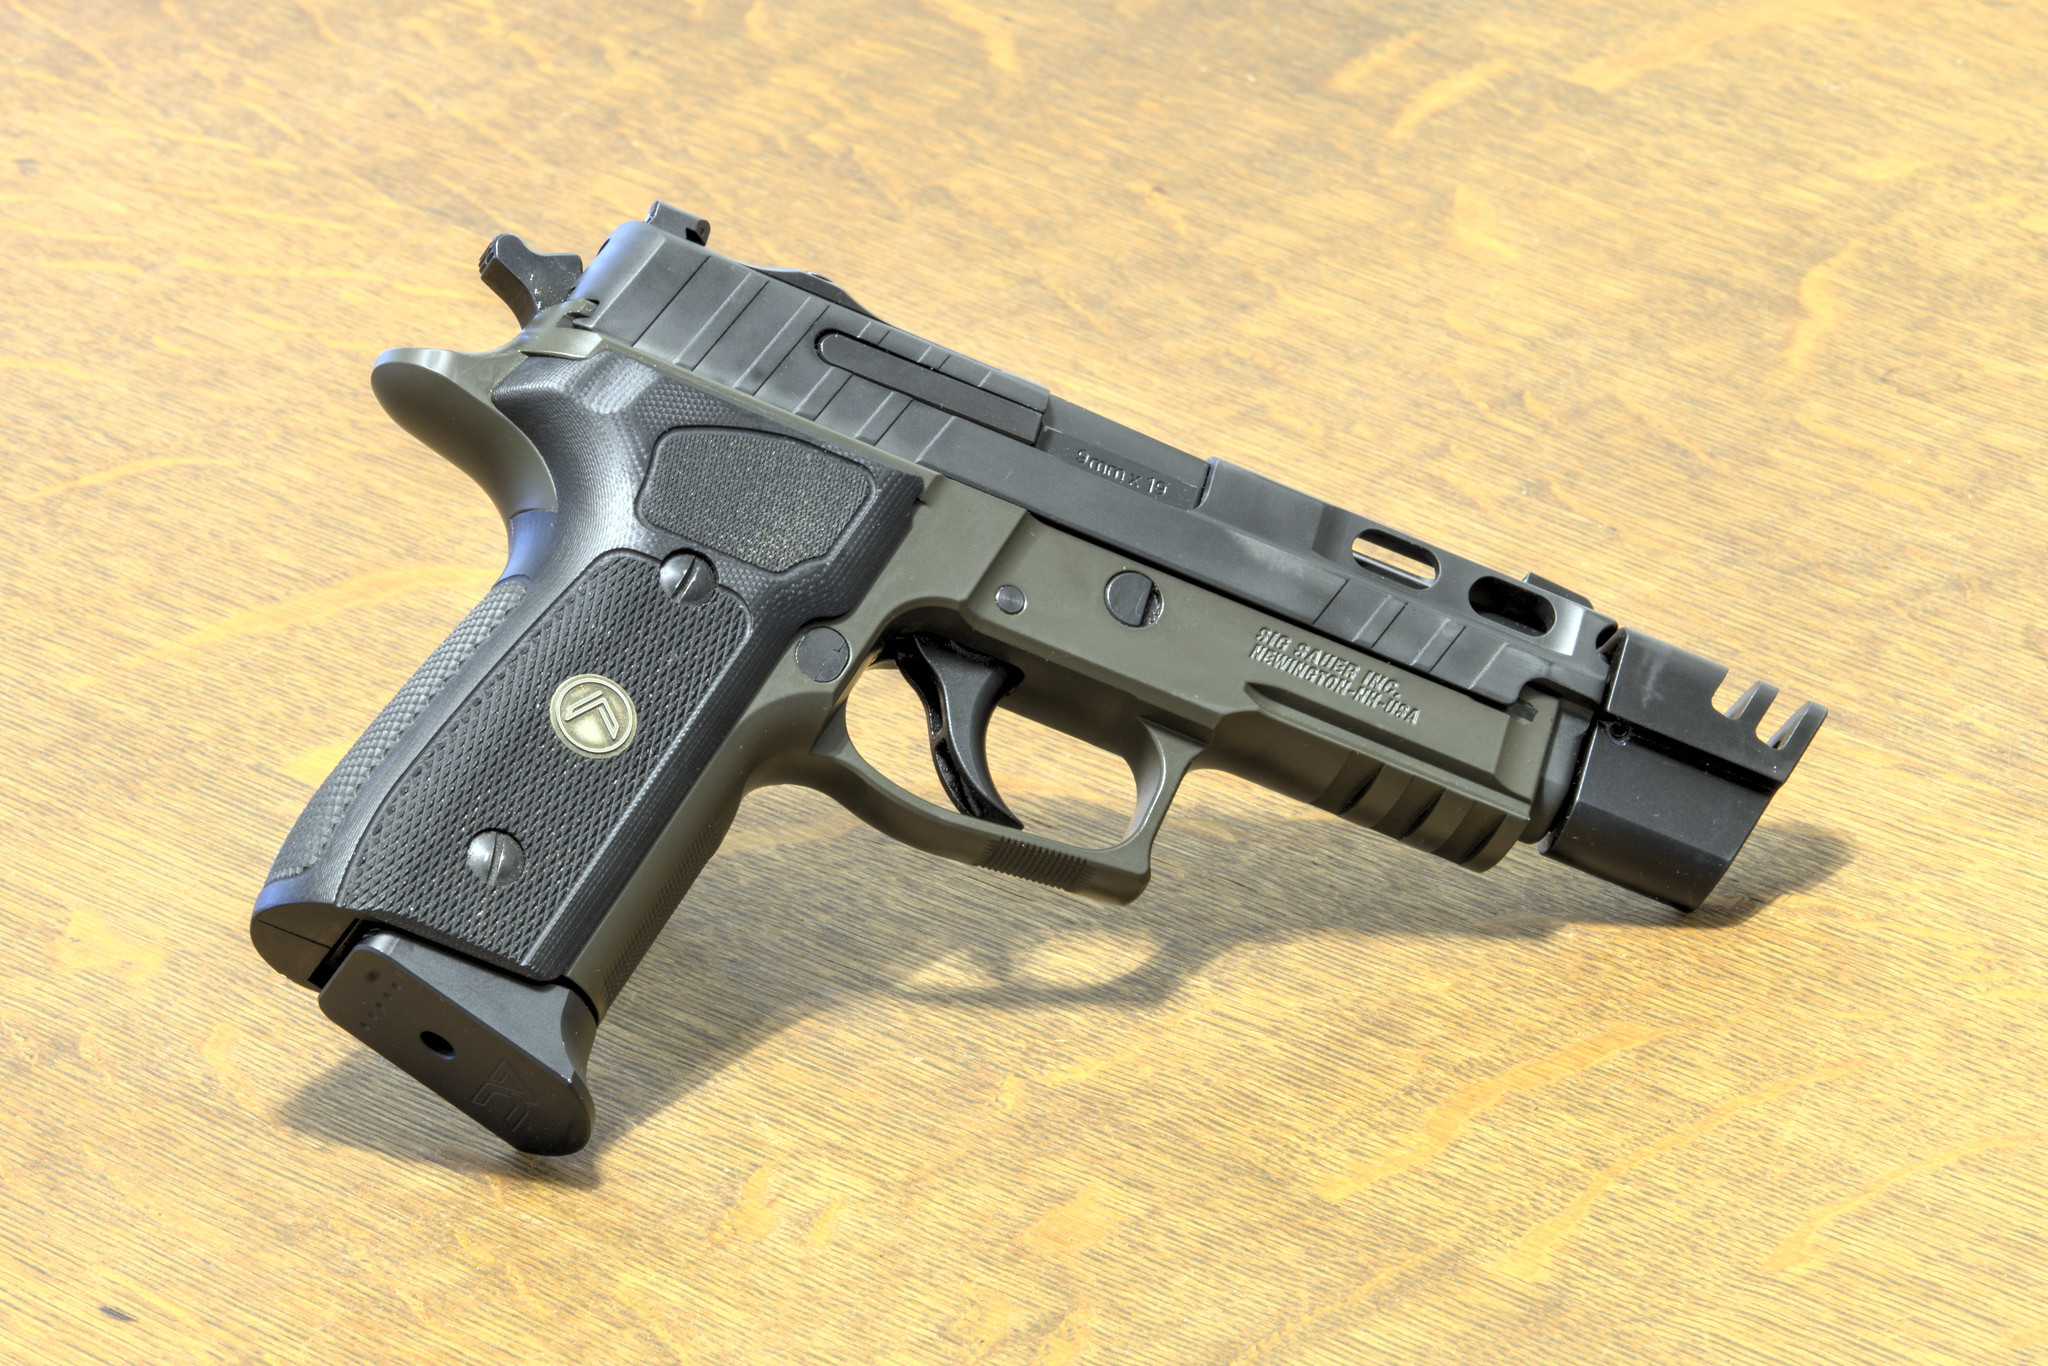gun: (232, 175, 1851, 1230)
